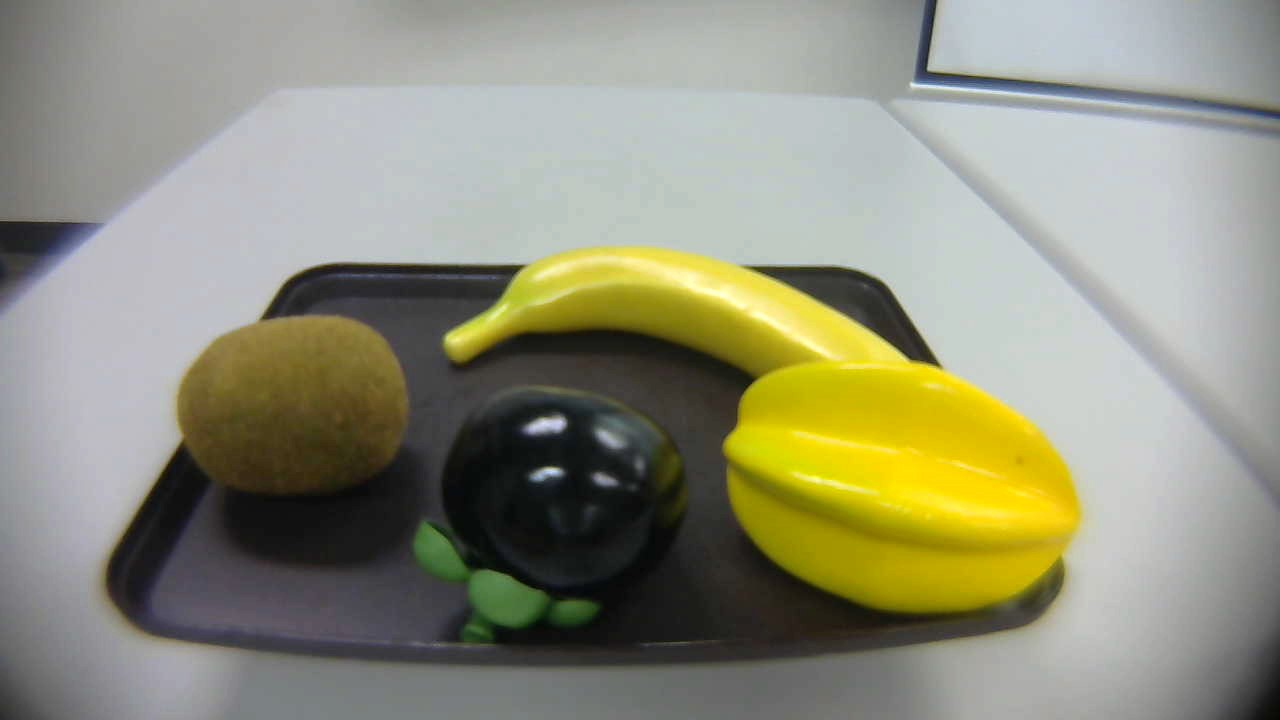banana: (443, 239, 943, 421)
kiwi fruit: (163, 309, 425, 503)
mangosteen: (417, 386, 709, 661)
star fruit: (718, 356, 1085, 613)
